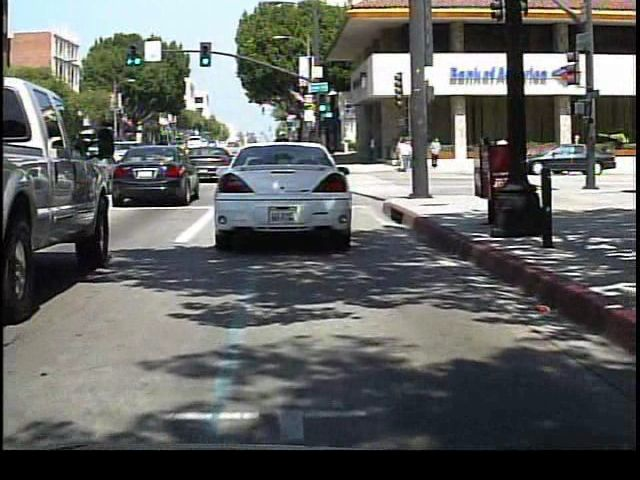person: (491, 135, 512, 174), (398, 136, 414, 177), (429, 135, 445, 170)
